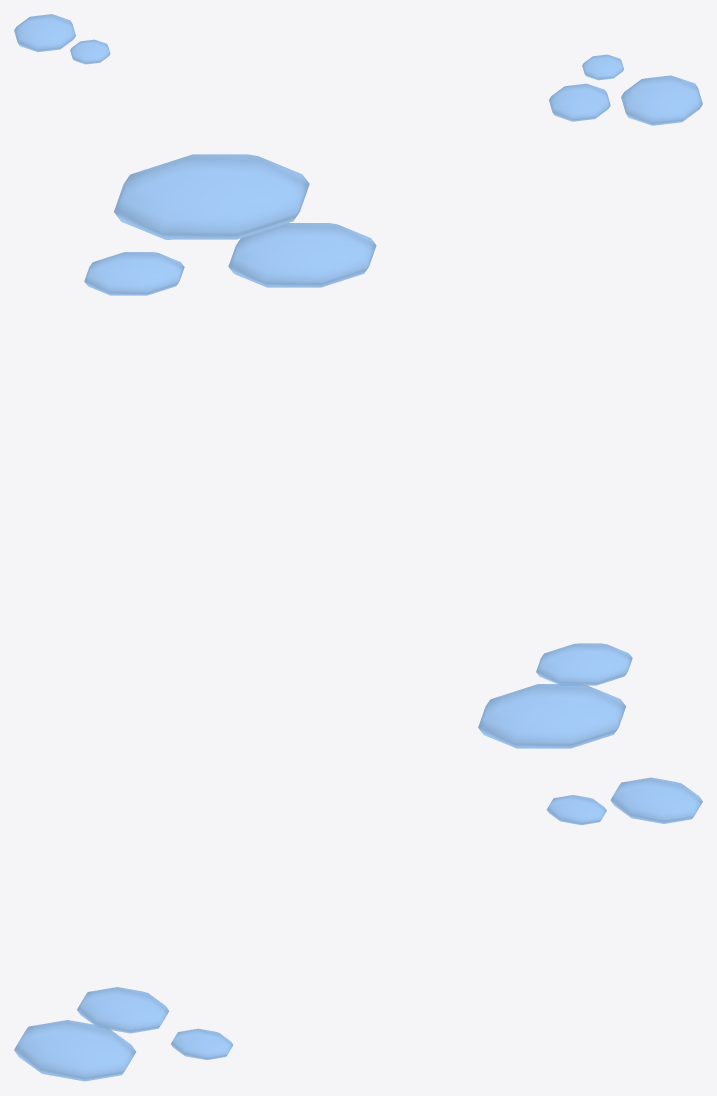
File: stones_grp_2_merged.fbx
3 renders of one model, top to bottom at view 1: azimuth 30°, elevation 25°; view 2: azimuth 150°, elevation 25°; view 3: azimuth 270°, elevation 25°, orthographic. The views are drawn at different scales.
Parts seen in each view (by area): view 1: stone_cluster2; view 2: stone_cluster2; view 3: stone_cluster2.
Boxes of the visible parts, left/top/right/bottom form: stone_cluster2: left=14, top=14, right=702, bottom=125; stone_cluster2: left=84, top=154, right=632, bottom=748; stone_cluster2: left=14, top=777, right=702, bottom=1081.
Size of the model in its own units: 124 by 4.97 by 122.
